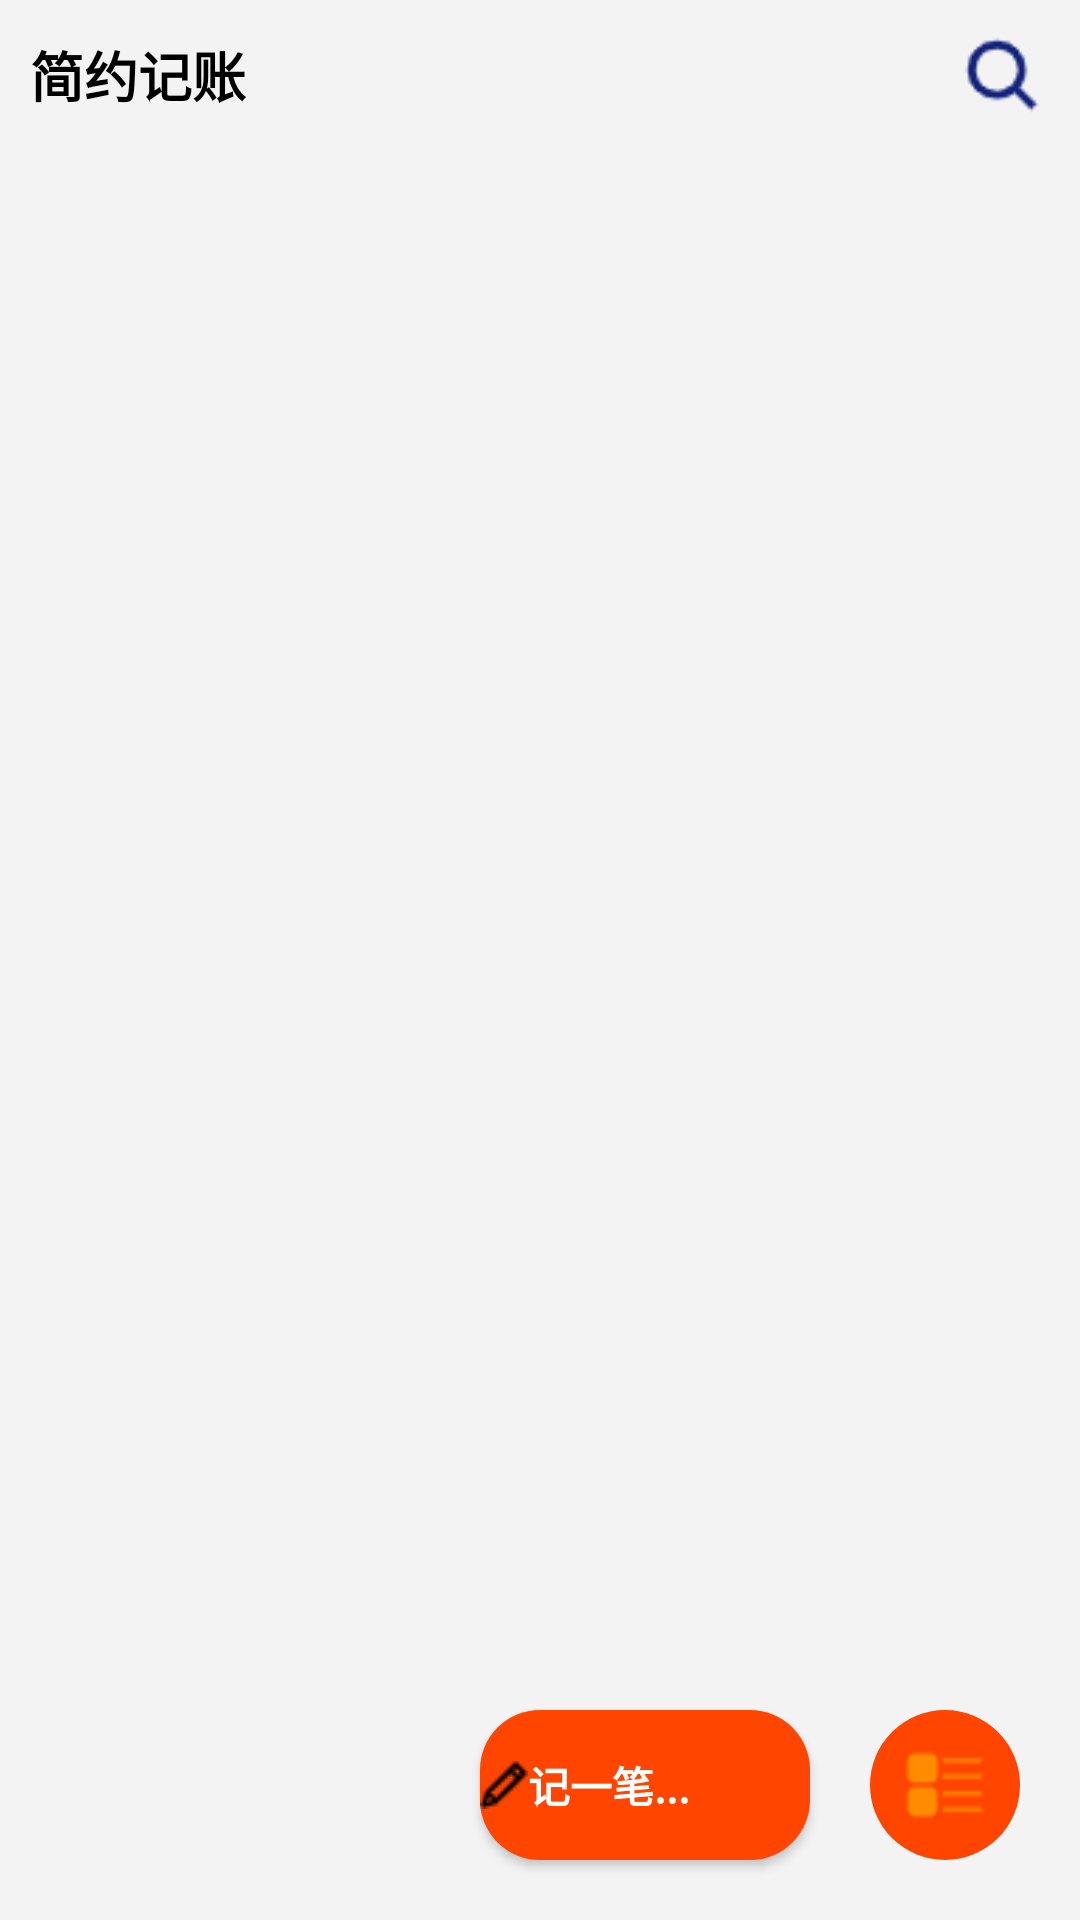

Icon bounding boxes for this 1080 x 1920 phone screenshot, format bbox=[x1, y1, x2, y2]:
more: bbox=[870, 1710, 1020, 1860]
search: bbox=[966, 39, 1038, 111]
